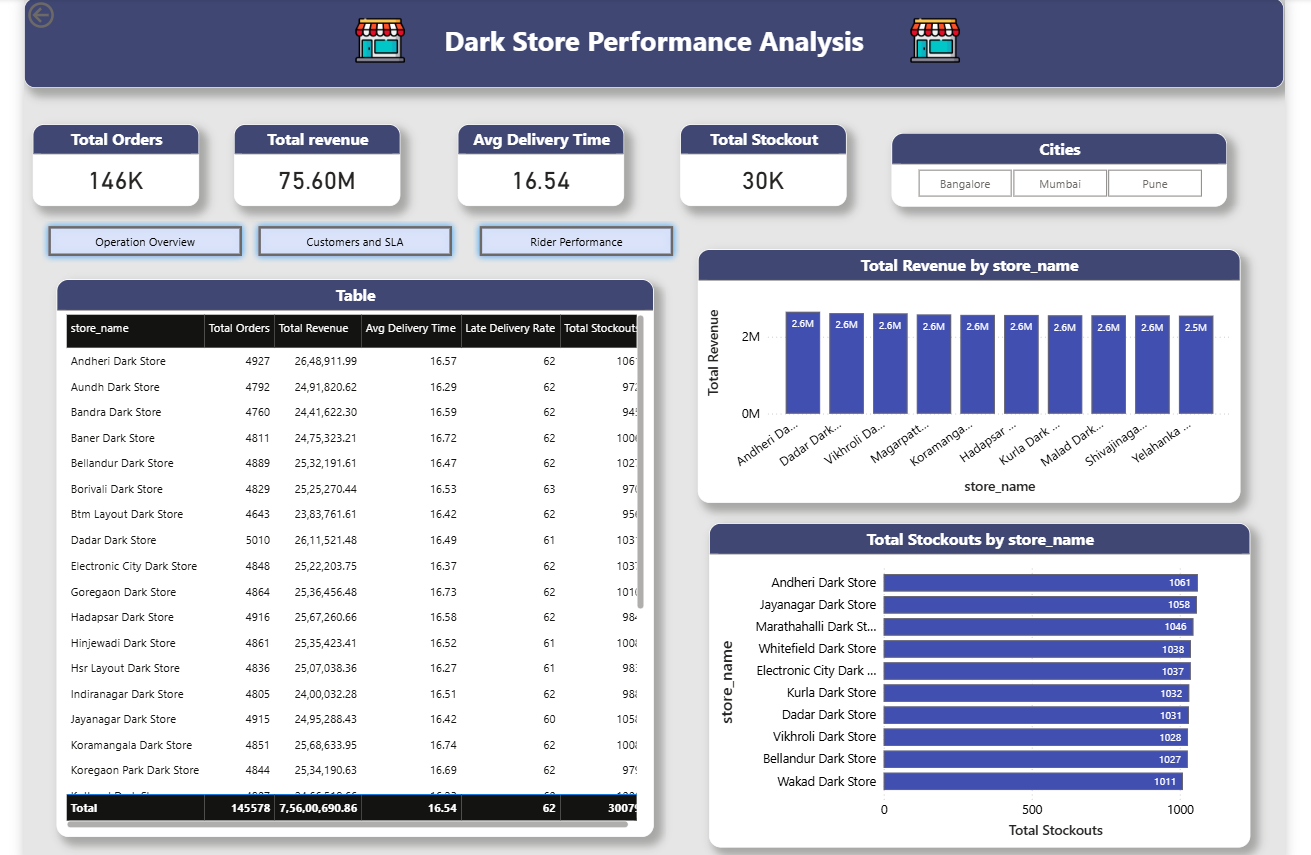

The dashboard page shown, as its layout file describes it:
{"tool":"powerbi","page":{"name":"Dark Store Performance","canvas":[1479,1019],"ordinal":1},"visuals":[{"type":"textbox","box":[0,0,1478.6,105.6],"z":0},{"type":"card","title":"Total Orders","fields":{"Values":["quickcommerce fact_orders.Total Orders"]},"box":[9.6,148.8,195.2,96],"z":1000},{"type":"card","title":"Avg Delivery Time","fields":{"Values":["quickcommerce fact_orders.Avg Delivery Time"]},"box":[508.9,148.8,195.2,96],"z":2000},{"type":"card","title":"Total revenue","fields":{"Values":["quickcommerce fact_orders.Total Revenue"]},"box":[246.4,148.8,195.2,96],"z":3000},{"type":"actionButton","box":[0,0,100,40],"z":4000},{"type":"card","title":"Total Stockout","fields":{"Values":["quickcommerce fact_orders.Total Stockouts"]},"box":[769.7,148.8,195.2,96],"z":5000},{"type":"slicer","title":"Cities","fields":{"Values":["quickcommerce dim_dark_stores.city"]},"box":[1017.7,158.4,393.6,86.4],"z":6000},{"type":"tableEx","title":"Table","fields":{"Values":["quickcommerce dim_dark_stores.store_name","quickcommerce fact_orders.Total Orders","quickcommerce fact_orders.Total Revenue","quickcommerce fact_orders.Avg Delivery Time","quickcommerce fact_orders.Late Delivery Rate","quickcommerce fact_orders.Total Stockouts"]},"box":[38.4,329.6,700.9,654.5],"z":7000},{"type":"columnChart","fields":{"Category":["quickcommerce dim_dark_stores.store_name"],"Y":["quickcommerce fact_orders.Total Revenue"]},"box":[790.5,294.4,636.9,297.6],"z":8000},{"type":"clusteredBarChart","fields":{"Category":["quickcommerce dim_dark_stores.store_name"],"Y":["quickcommerce fact_orders.Total Stockouts"]},"box":[803.3,616.1,635.3,380.8],"z":9000},{"type":"actionButton","title":"Store PerFormance","box":[20.8,259.2,243.2,51.2],"z":10000},{"type":"actionButton","title":"Store PerFormance","box":[526.5,259.2,243.2,51.2],"z":11000},{"type":"actionButton","title":"Store PerFormance","box":[267.2,259.2,243.2,51.2],"z":12000},{"type":"image","box":[344.5,20.5,147,58.5],"z":12001},{"type":"image","box":[995.6,20.5,147,58.5],"z":12002}]}

Visuals, with their boxes on the page's 1479x1019 design canvas (x1, y1, x2, y2). These are canvas units, not pixel positions in the 1311x855 screenshot, which may show the page scaled, cropped or inside an application window:
textbox: detection(0, 0, 1479, 106)
"Total Orders" card: detection(10, 149, 205, 245)
"Avg Delivery Time" card: detection(509, 149, 704, 245)
"Total revenue" card: detection(246, 149, 442, 245)
actionButton: detection(0, 0, 100, 40)
"Total Stockout" card: detection(770, 149, 965, 245)
"Cities" slicer: detection(1018, 158, 1411, 245)
"Table" tableEx: detection(38, 330, 739, 984)
columnChart - quickcommerce dim_dark_stores.store_name x quickcommerce fact_orders.Total Revenue: detection(790, 294, 1427, 592)
clusteredBarChart - quickcommerce dim_dark_stores.store_name x quickcommerce fact_orders.Total Stockouts: detection(803, 616, 1439, 997)
"Store PerFormance" actionButton: detection(21, 259, 264, 310)
"Store PerFormance" actionButton: detection(526, 259, 770, 310)
"Store PerFormance" actionButton: detection(267, 259, 510, 310)
image: detection(344, 20, 492, 79)
image: detection(996, 20, 1143, 79)
